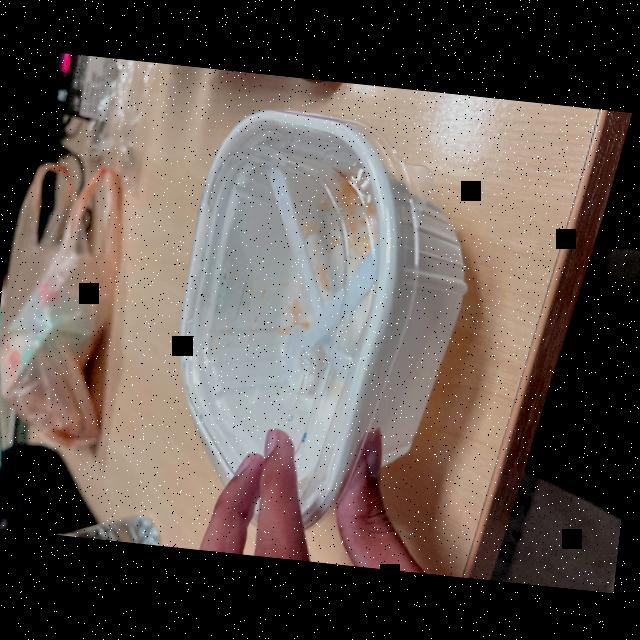plastic_box: (163, 83, 488, 550)
